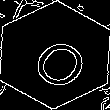O_NE: (19, 22, 91, 88)
